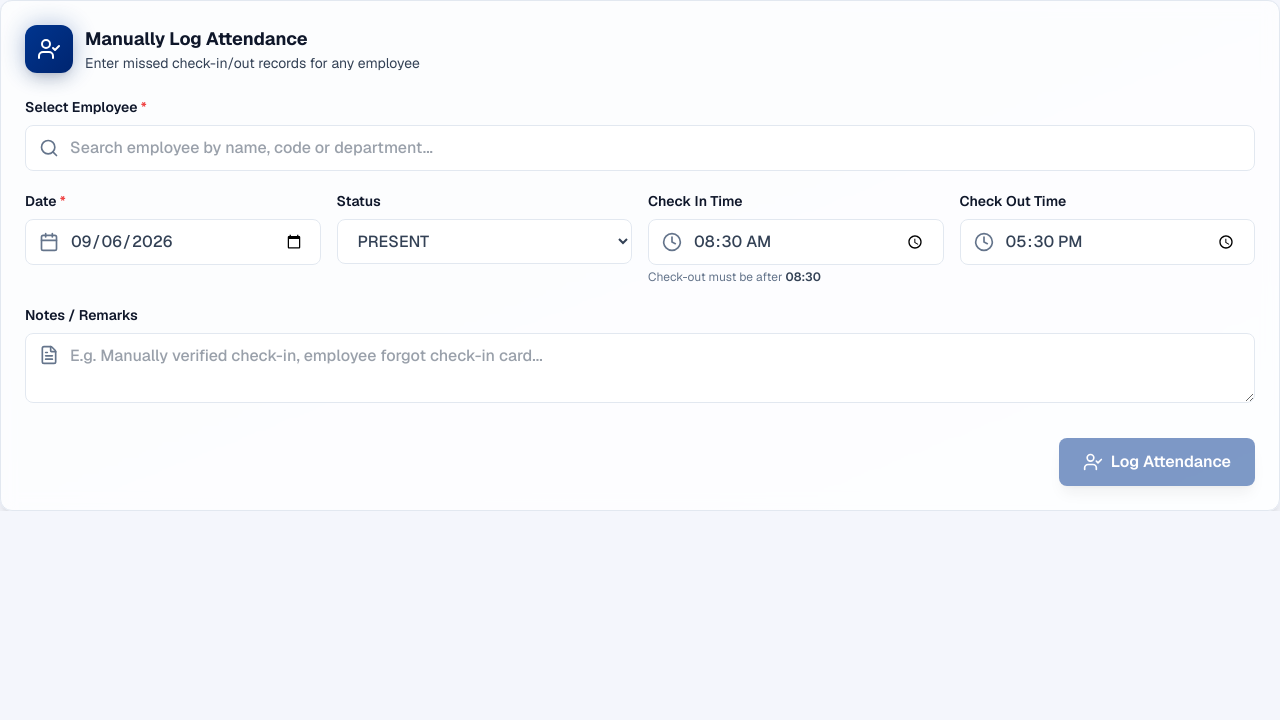
ManualAttendanceEntry › the server’s refusal reaches the user
Type "Ada" into the field with test id "manual-employee-search".
click(640, 148); type("Ada")  # box left=25, top=125, right=1255, bottom=171
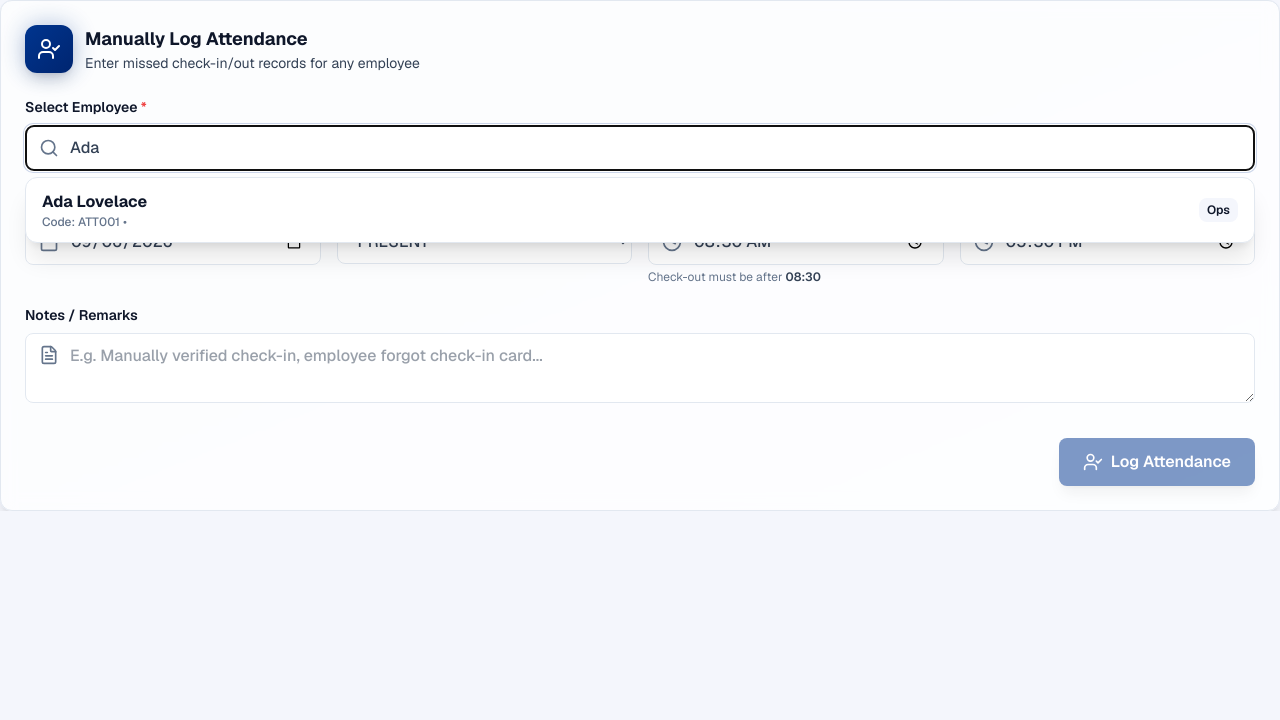
Click the button "Ada Lovelace Code: ATT001 • Ops".
click(95, 202)  # box left=26, top=178, right=1254, bottom=242
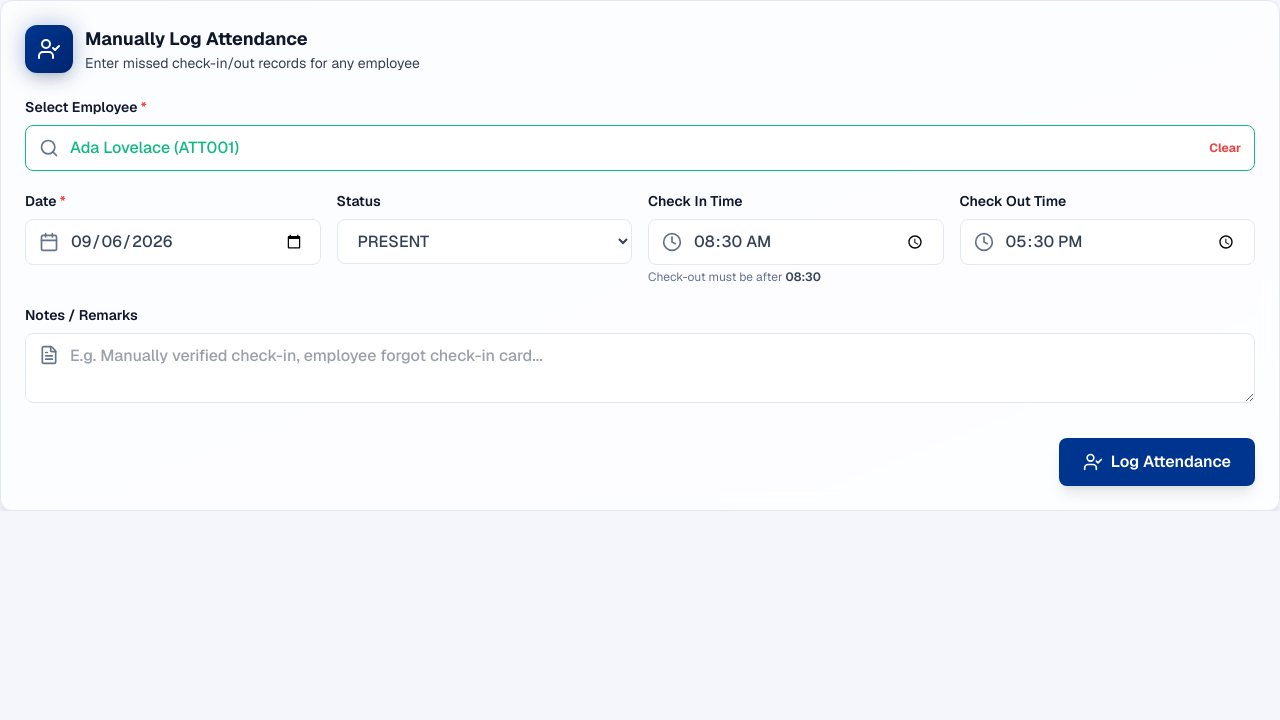
Type "2026-08-14" into the date field with test id "manual-date".
click(173, 242); type("2026-08-14")  # box left=25, top=219, right=320, bottom=265
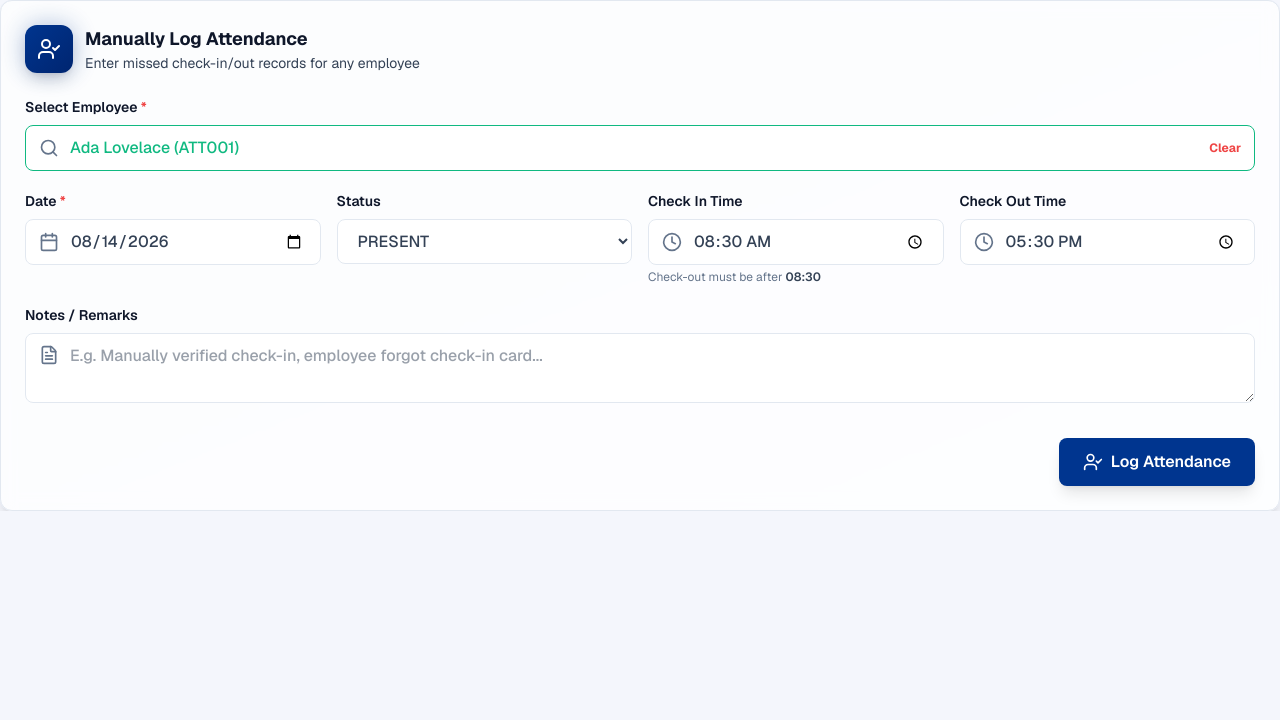
Click the button with test id "manual-submit".
click(1157, 462)  # box left=1059, top=438, right=1255, bottom=486
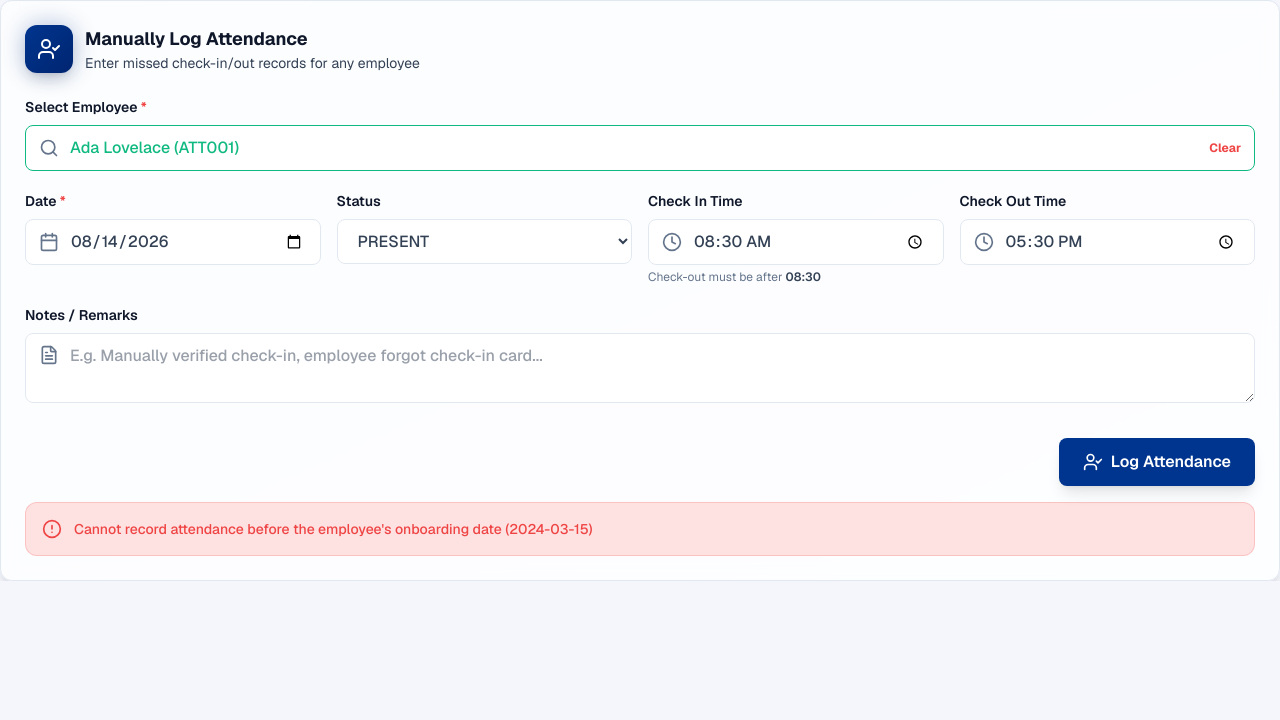
Check: the text with test id "manual-error" shows "onboarding date", box left=74, top=520, right=592, bottom=538
